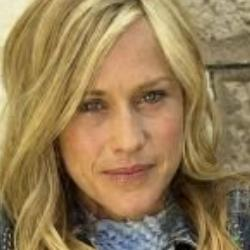face: (1, 1, 241, 235)
